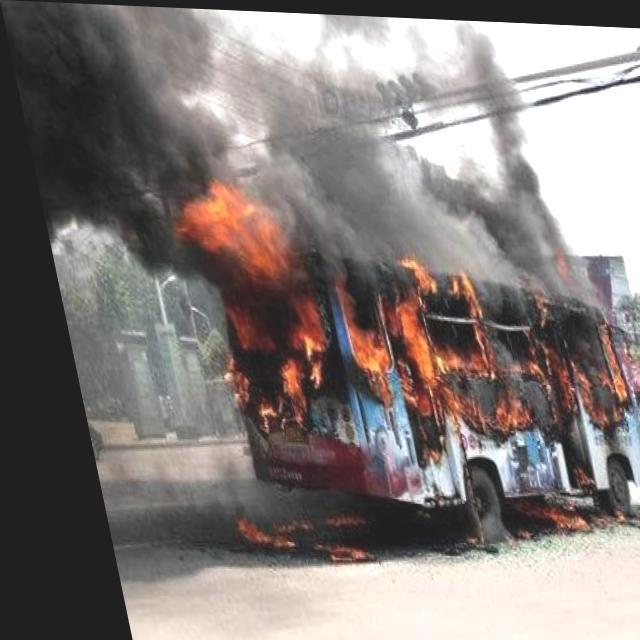Fire: (156, 177, 639, 580)
